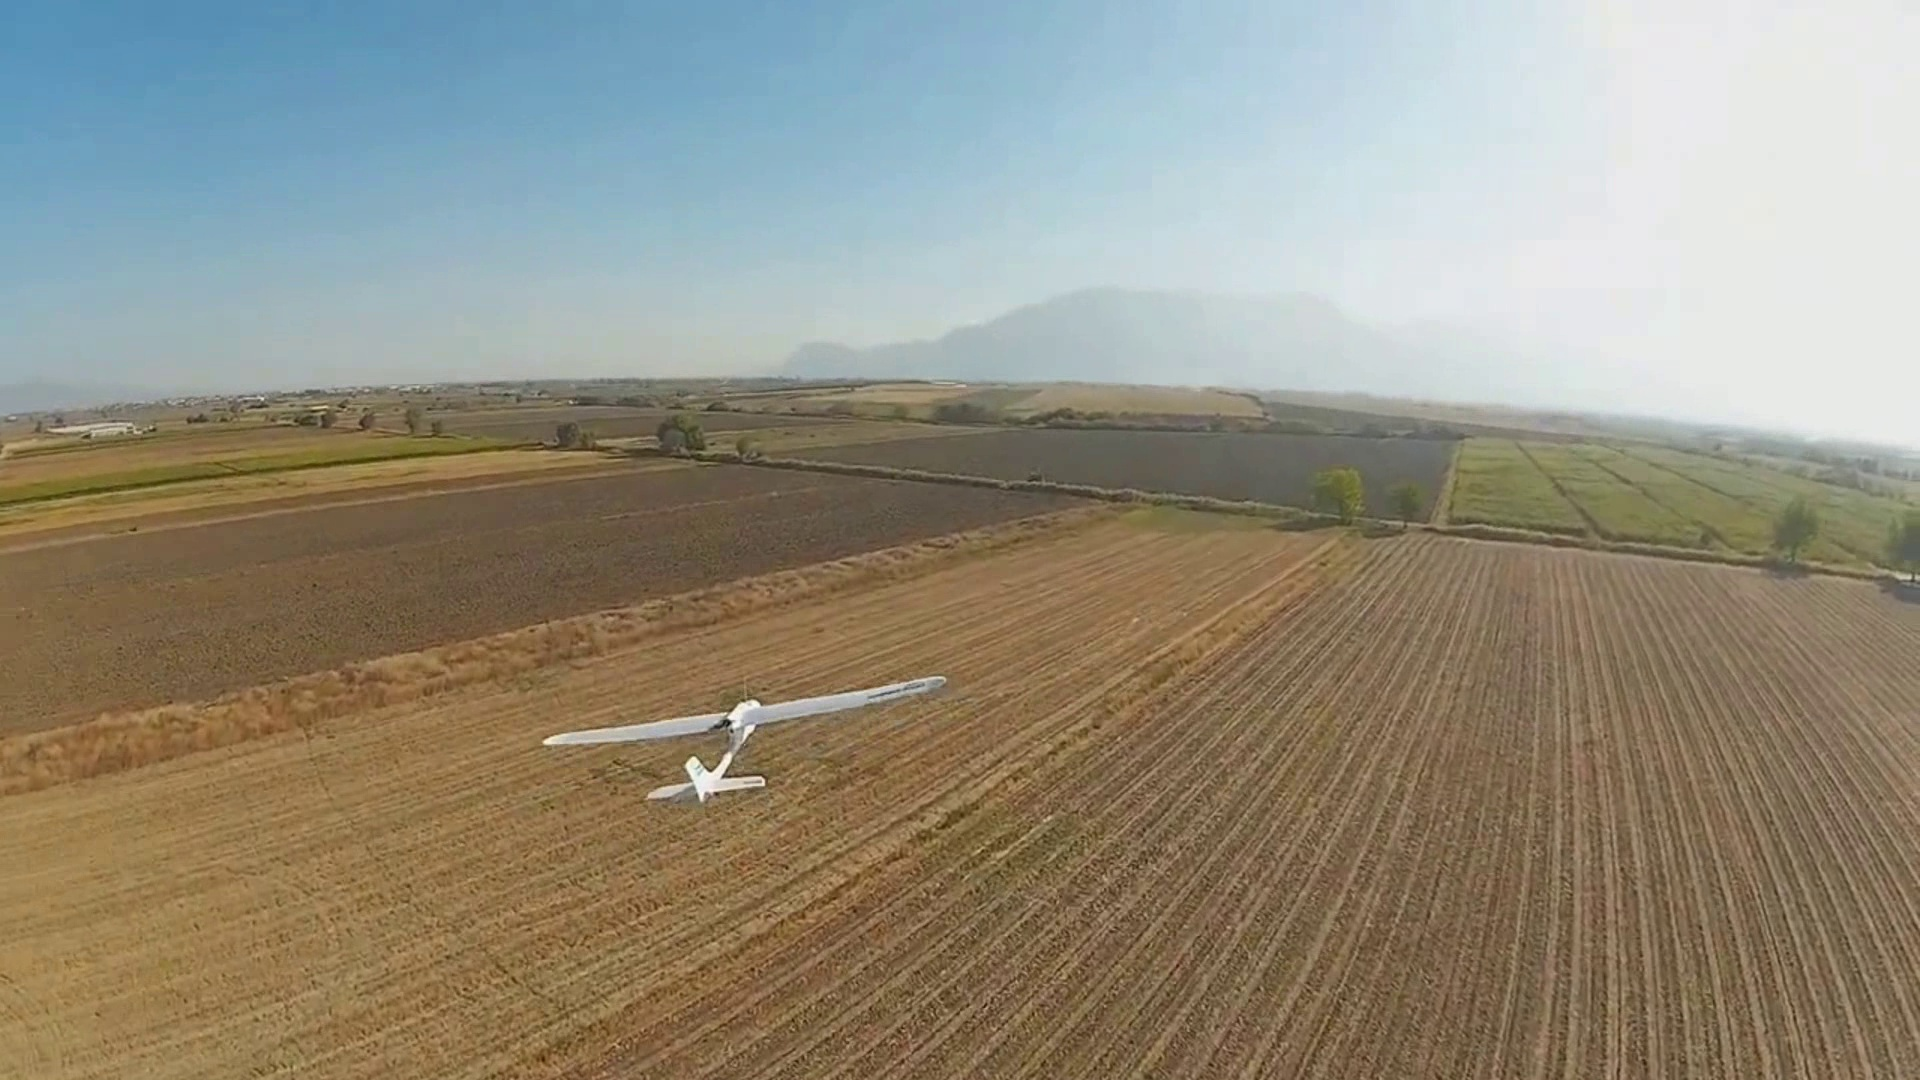airplane: (539, 676, 949, 806)
